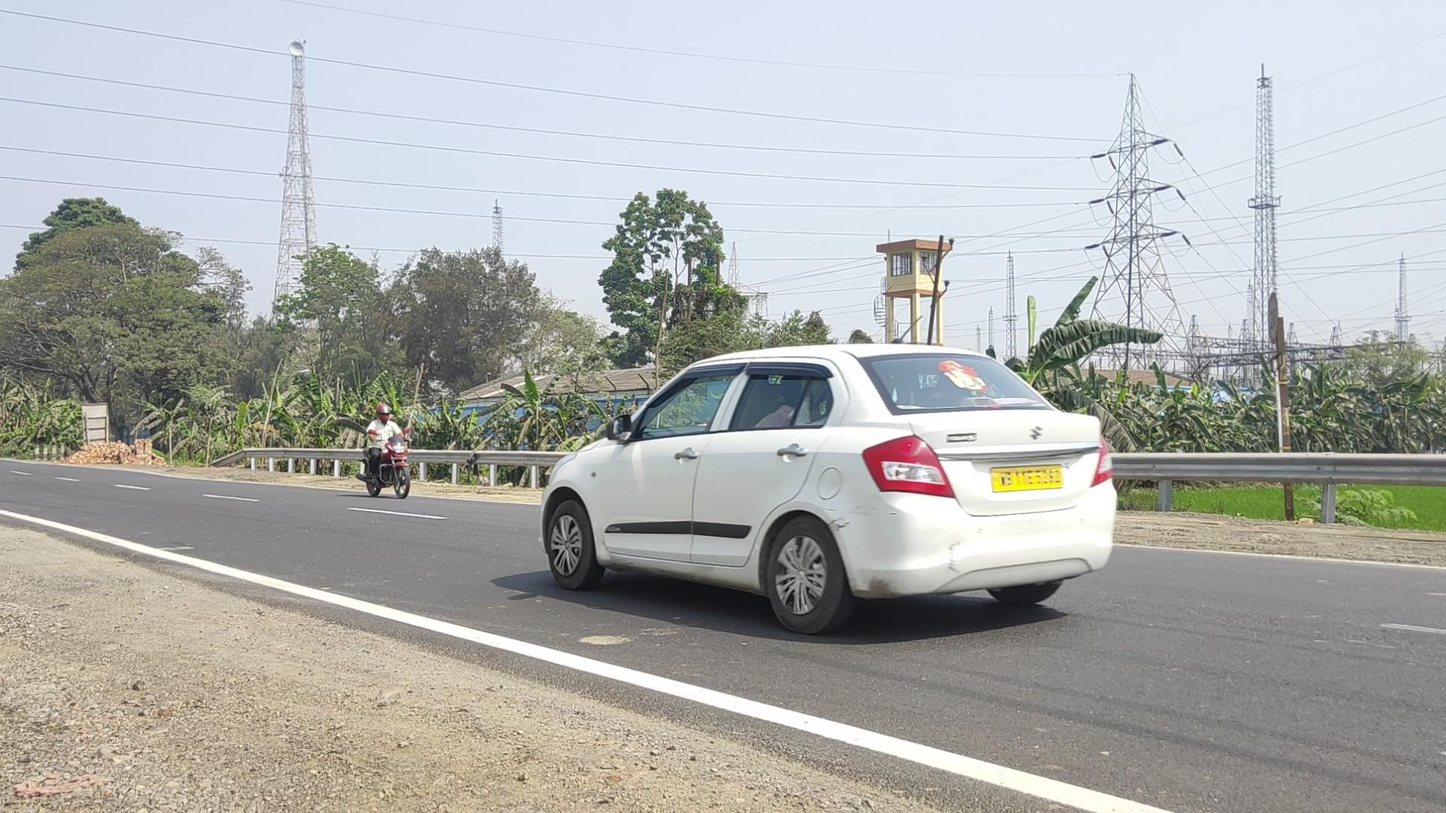bike: (355, 403, 410, 499)
car: (539, 343, 1118, 635)
